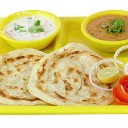parota: (29, 43, 115, 105), (1, 46, 51, 103)
